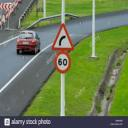speed_limit_60: (54, 50, 71, 74)
